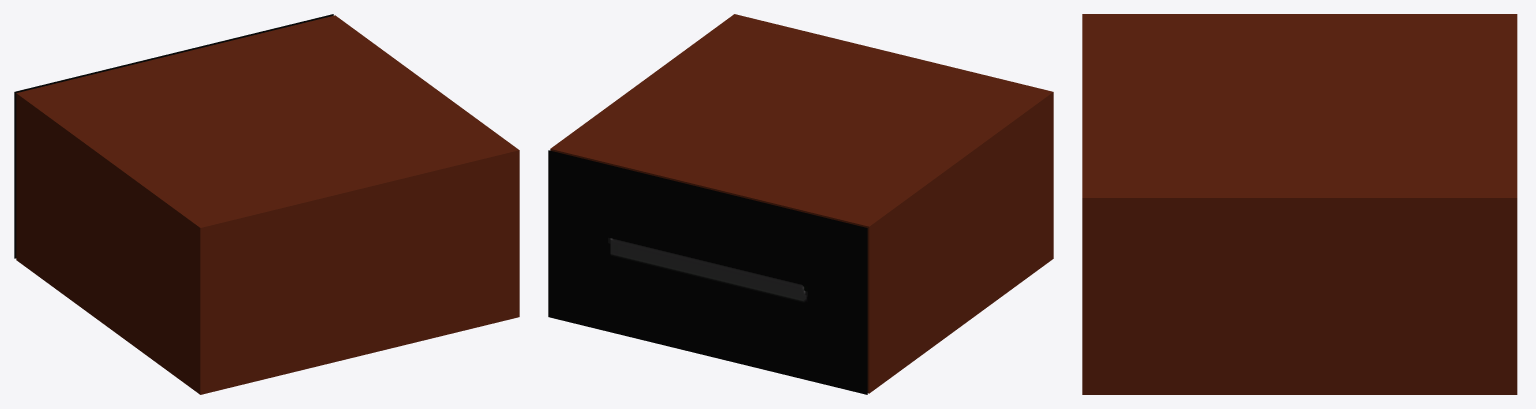
File: seat.obj
3 renders of one model, left to right at view 1: azimuth 30°, elevation 25°; view 2: azimuth 150°, elevation 25°; view 3: azimuth 270°, elevation 25°, orthographic. The views are drawn at different scales.
Visible parts, largest first — view 1: Seat1, Seat2; view 2: Seat1, Seat2; view 3: Seat1.
Part boxes in pixels (x1,y1,x2,y2): Seat1: (16,15,519,394); Seat2: (14,14,333,258); Seat1: (550,14,1053,393); Seat2: (548,150,867,394); Seat1: (1082,14,1517,394).
Bounding box in the file's own units: 2 × 1 × 2.02.
Materials: 2 (1 with a texture image).
